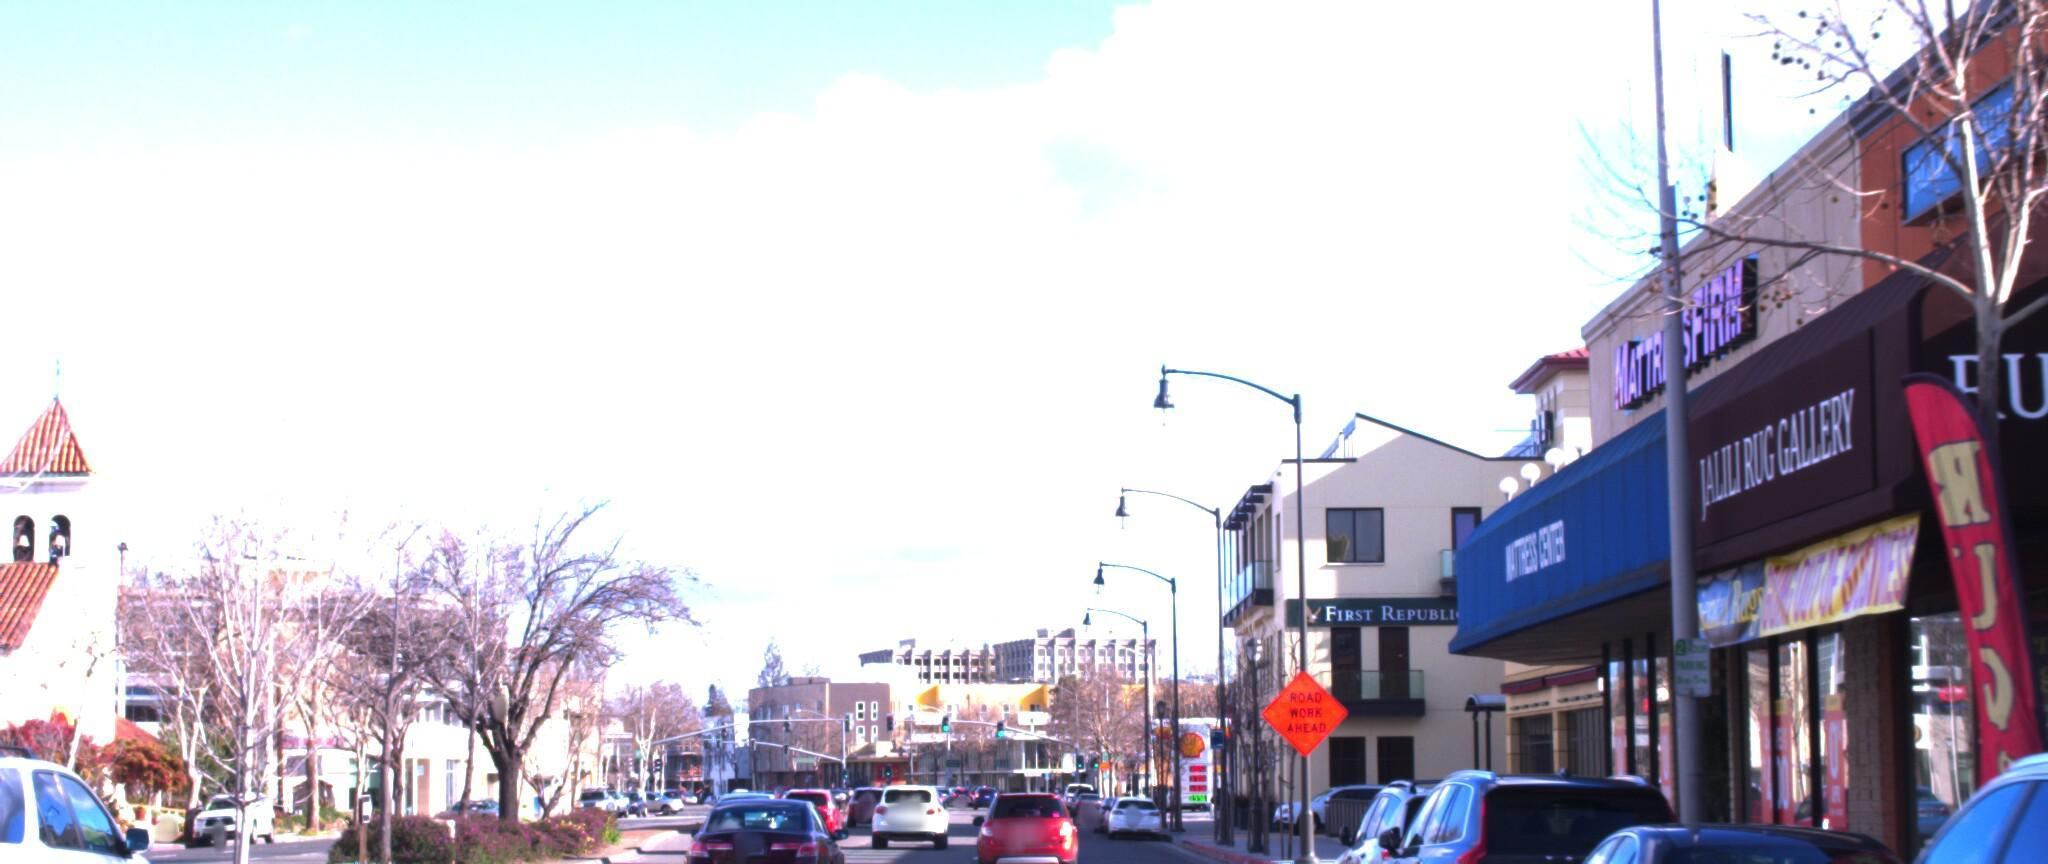car: (1347, 747, 1714, 864), (1714, 748, 2048, 864), (1479, 795, 2023, 864), (0, 700, 216, 864), (1311, 753, 1584, 864), (686, 758, 852, 864), (970, 767, 1074, 864), (869, 762, 946, 825)
